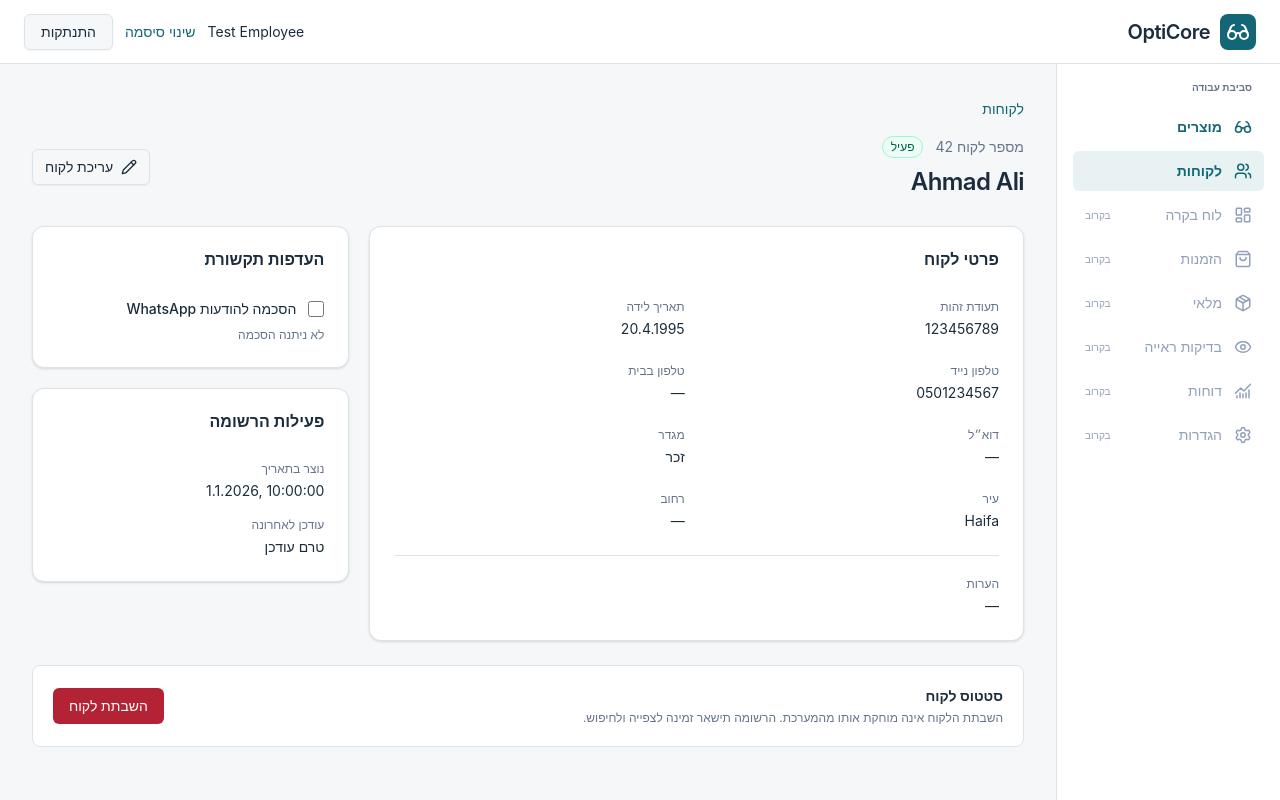
Test: customer workflows › retains original consent and shows feedback when save fails
Click the checkbox labelled "הסכמה להודעות WhatsApp" at (316, 309), box [308,301,324,317]
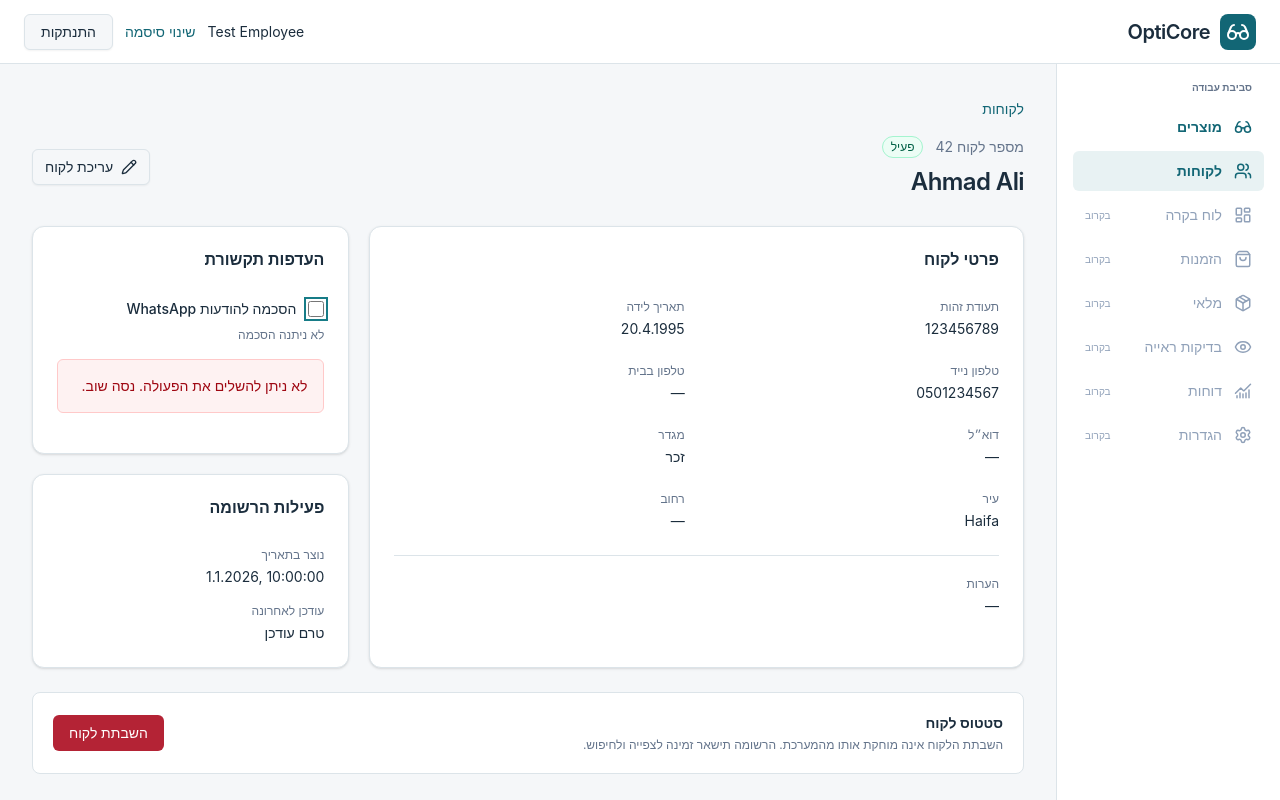
Result: the message shows "נסה שוב" at [82,377,307,394]
